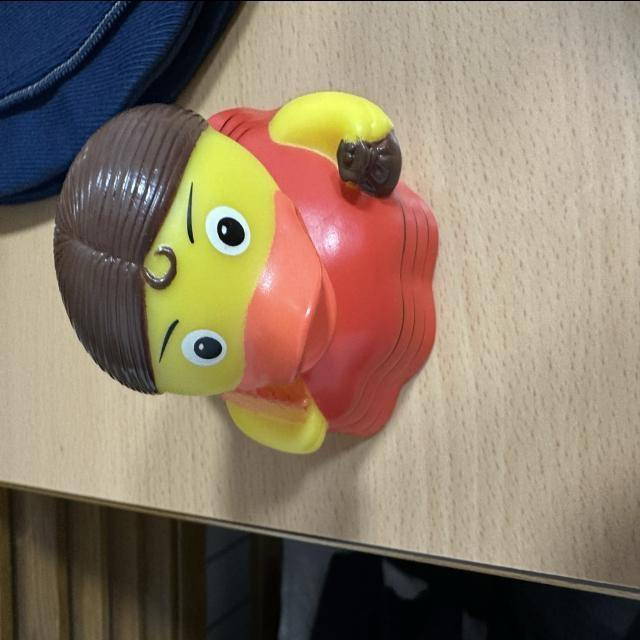rubber-duck: (54, 91, 436, 451)
